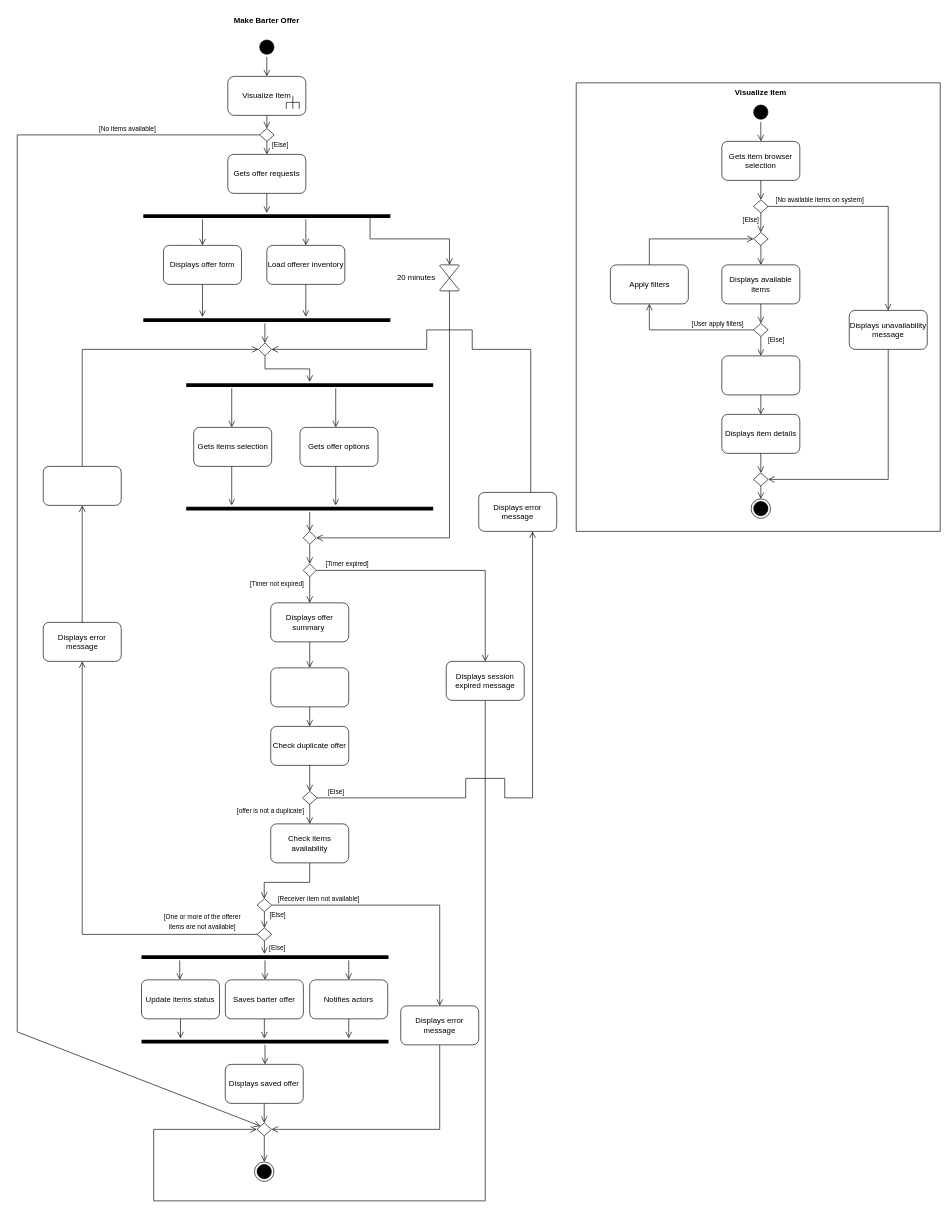
Image size: 952x1219. Some labels were removed from this diagram. Here are the shapes that lost their labels. From the top down, the centre of each, then its label:
point (760, 375): Gets item selection
point (82, 485): Clears unaivalable items selection
point (309, 687): Gets confirmation
